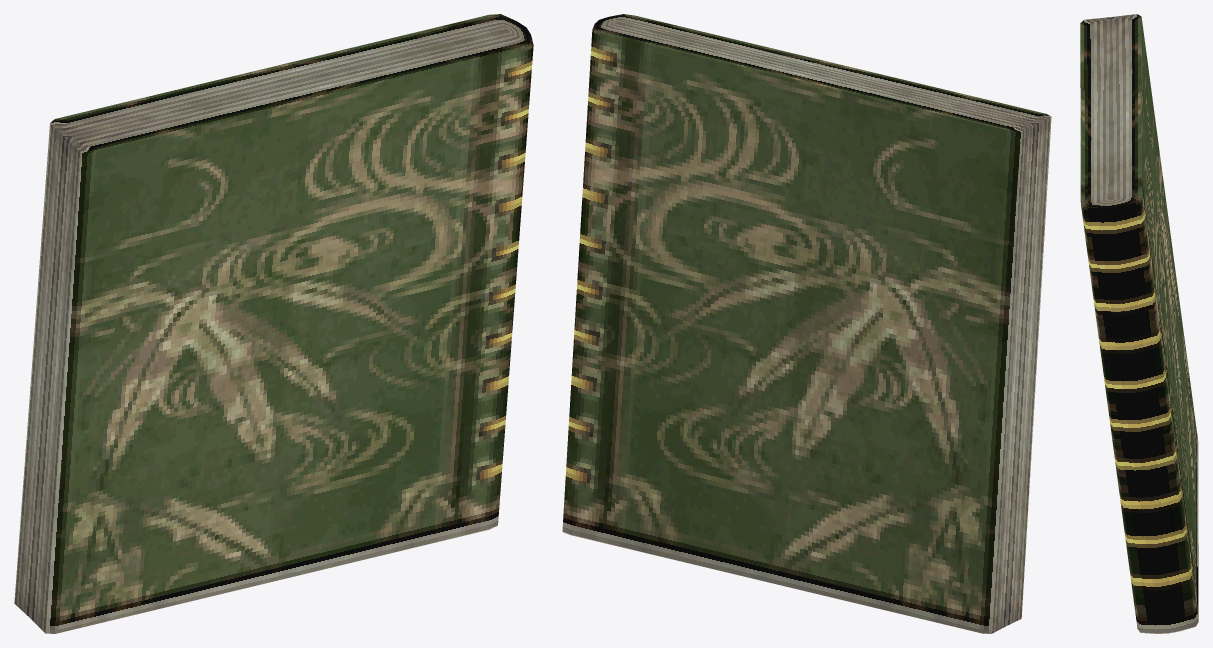
Rendered from ps2_save-icons_fatalframe2-albumdata-slot4green.glb.
3 renders of one model, left to right at view 1: azimuth 30°, elevation 25°; view 2: azimuth 150°, elevation 25°; view 3: azimuth 270°, elevation 25°, orthographic. The views are drawn at different scales.
Parts seen in each view (by area): view 1: zero-b-album3.ico; view 2: zero-b-album3.ico; view 3: zero-b-album3.ico.
Part boxes in pixels (x1=…): zero-b-album3.ico: x1=14, y1=14, x2=533, y2=633; zero-b-album3.ico: x1=562, y1=14, x2=1051, y2=633; zero-b-album3.ico: x1=1080, y1=14, x2=1198, y2=633.
Bounding box in the file's own units: 3.58 × 3.79 × 0.9373.
1 material, 1 textured.
